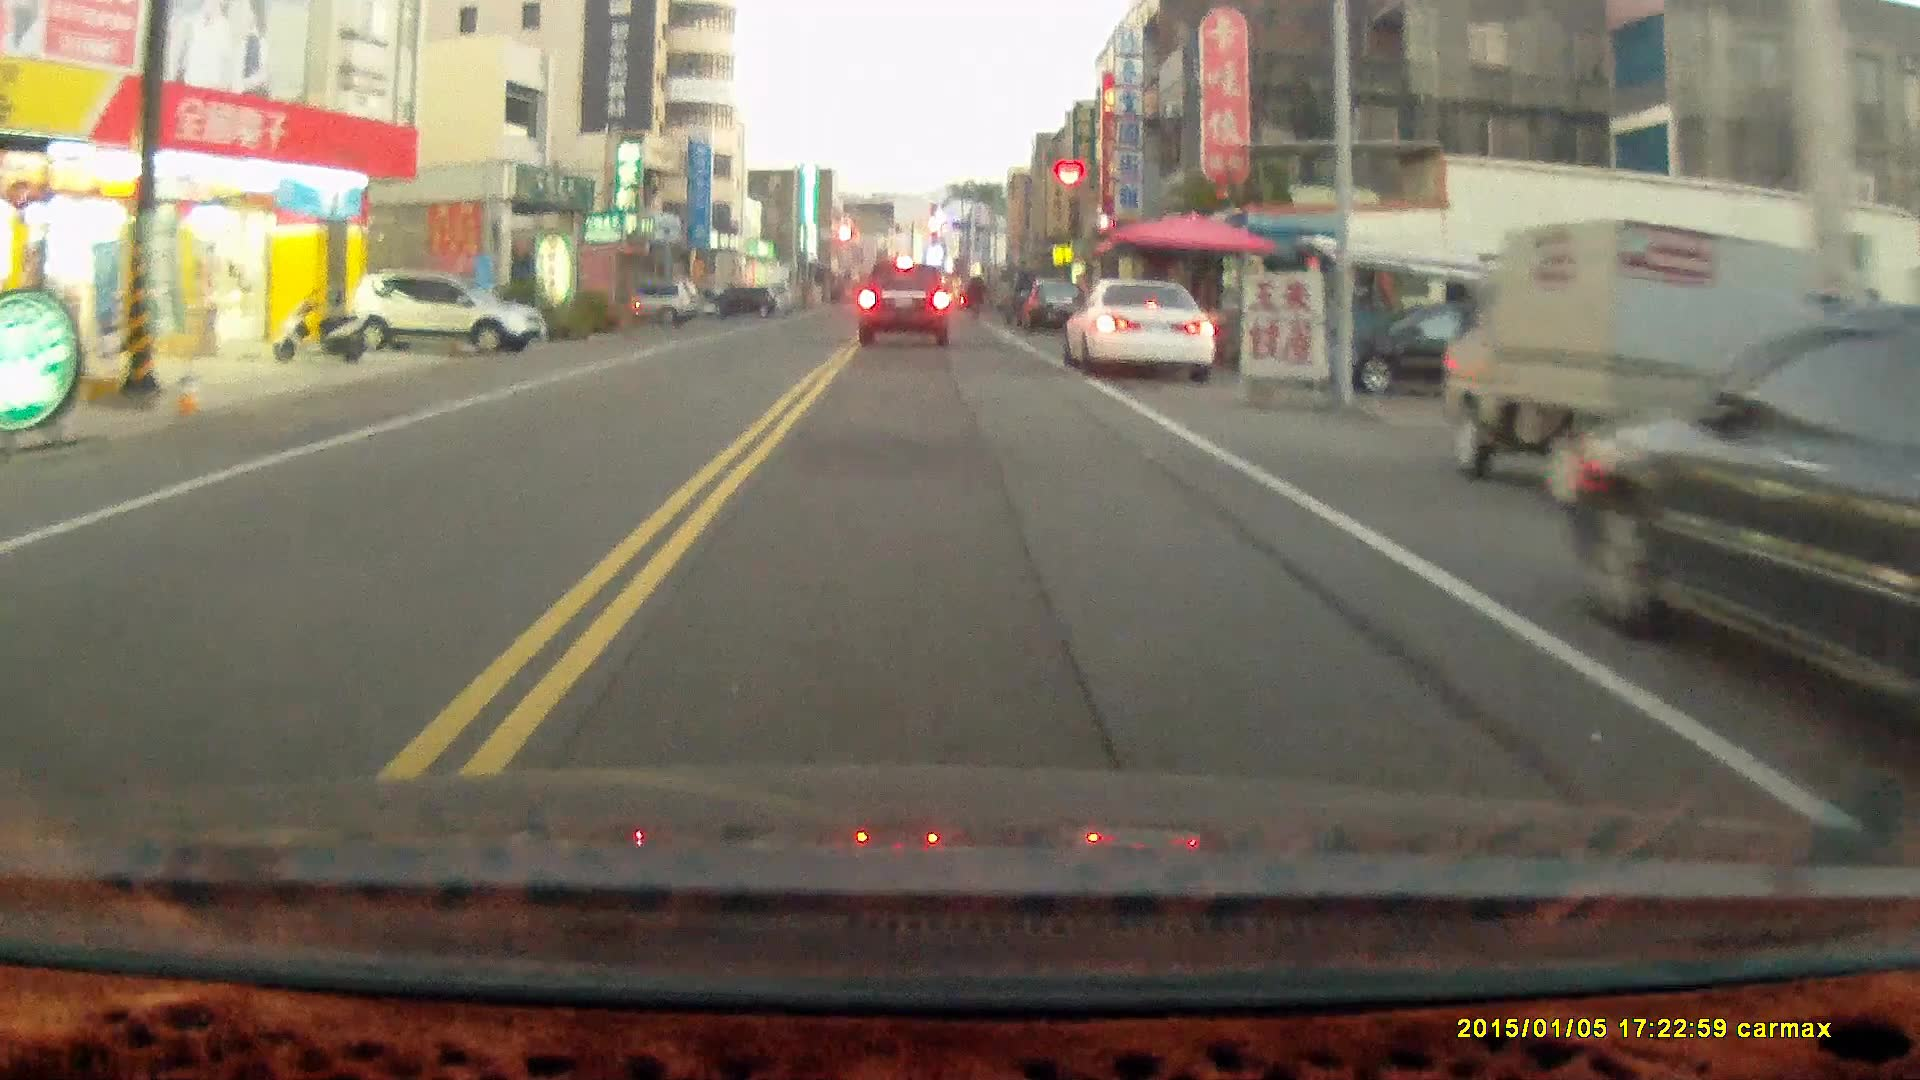vehicle: (1557, 297, 1920, 728), (1440, 216, 1832, 516), (1312, 297, 1588, 401), (338, 272, 542, 356), (1067, 280, 1218, 386), (855, 262, 953, 347)
